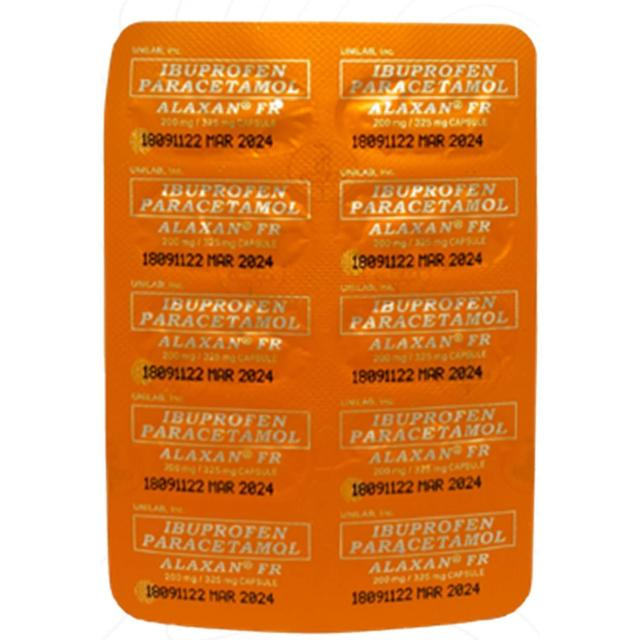blister: (100, 14, 539, 632)
